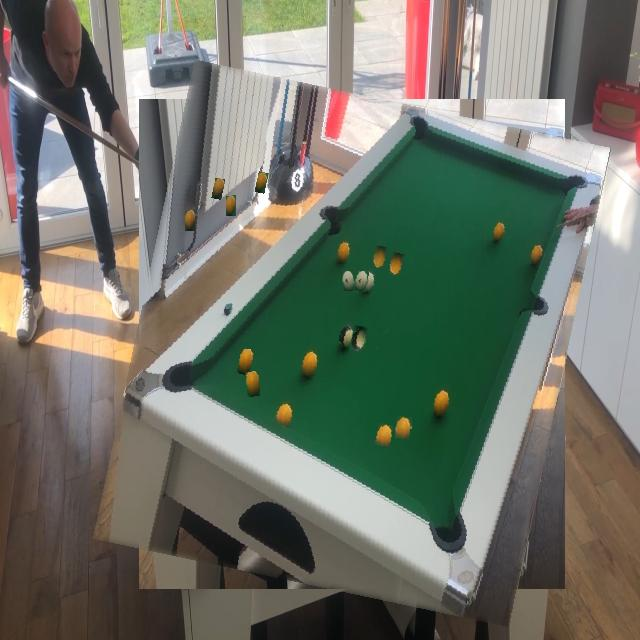Ball: (382, 360, 397, 388), (351, 326, 367, 352), (245, 371, 260, 398), (396, 416, 412, 439), (372, 246, 387, 269), (343, 271, 355, 291), (185, 210, 195, 231), (226, 195, 236, 216)
Billiard table: (116, 80, 588, 608)
